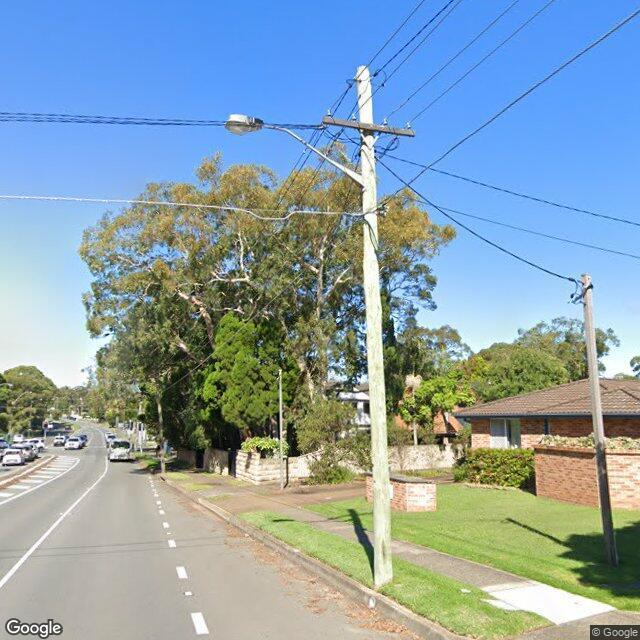crossarm: (323, 115, 415, 138)
steel-pole: (278, 369, 284, 489)
streetlight: (225, 114, 363, 186)
timber-pole: (356, 67, 394, 589), (581, 274, 618, 568)
